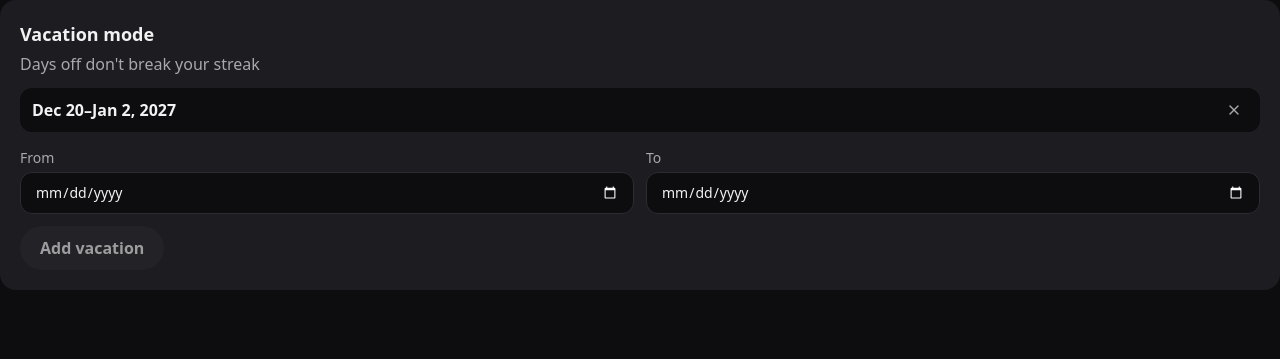
Test case: Vacation mode › lists vacations, adds one and removes one
expect the text "Days off don't break your streak" is shown: met, box 20,53 -> 260,75
expect the text "Dec 20–Jan 2, 2027" is shown: met, box 32,98 -> 176,122
Type "2026-11-26" into the date field labelled "From" at (327, 193), box 20,172 -> 634,214
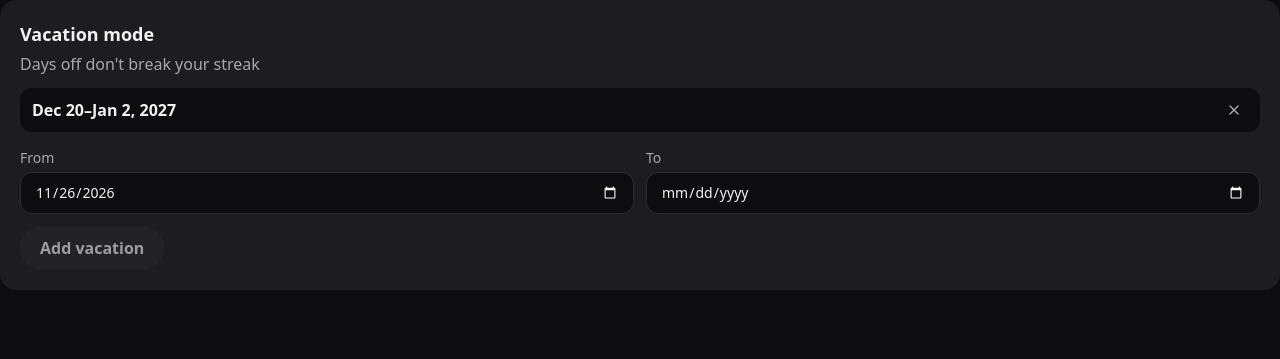
Type "2026-11-29" into the date field labelled "To" at (953, 193), box 646,172 -> 1260,214
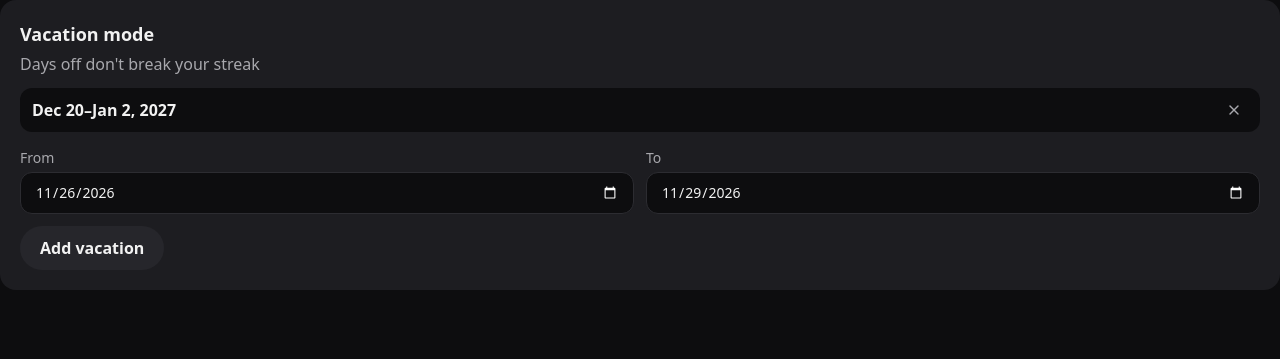
Click the button "Add vacation" at (92, 248), box 20,226 -> 164,270
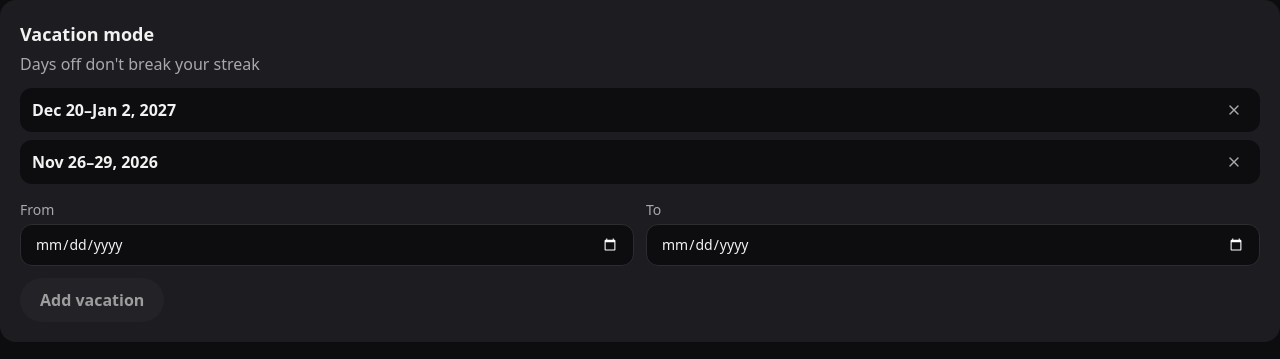
expect the list item "Dec 20–Jan 2, 2027" is shown: met, box 20,88 -> 1260,132
expect the text "Nov 26–29, 2026" is shown: met, box 32,150 -> 158,174
Click the button named "Remove vacation Dec 20–Jan 2, 2027" at (1234, 110), box 1220,96 -> 1248,124
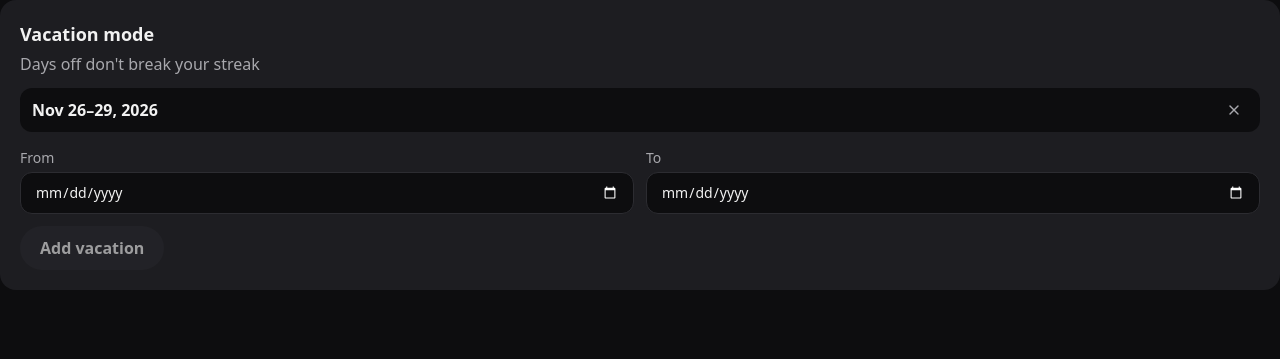
expect the text "Dec 20–Jan 2, 2027" is gone: met
expect the number of list items is 1: met, box 20,88 -> 1260,132
